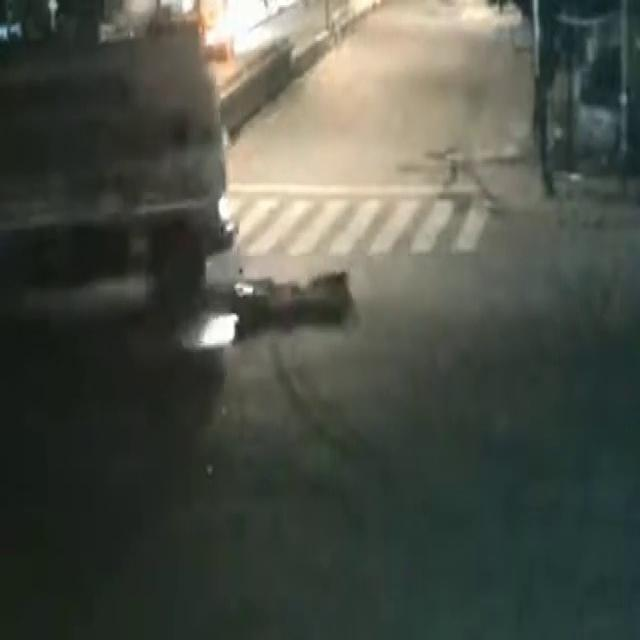accident: (0, 61, 350, 409)
